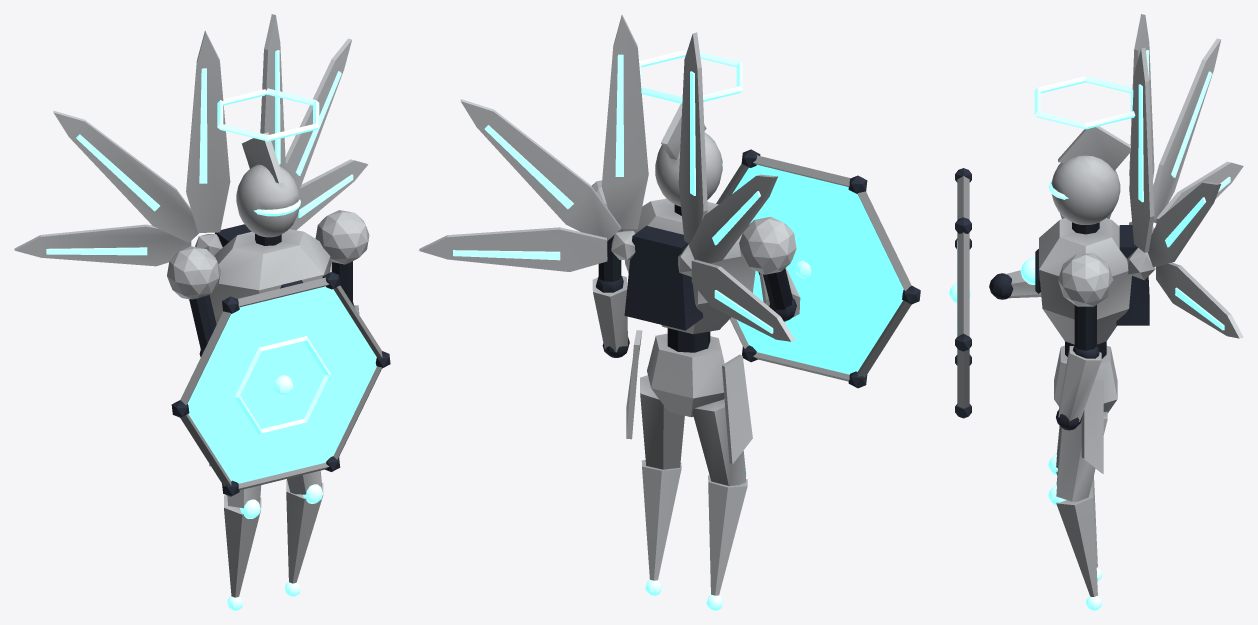
File: mech_sentinel.glb
3 renders of one model, left to right at view 1: azimuth 30°, elevation 25°; view 2: azimuth 150°, elevation 25°; view 3: azimuth 270°, elevation 25°, orthographic. The views are drawn at different scales.
Parts seen in each view (by area): view 1: body, wing_L_a, wing_R_a, spin_y_halo; view 2: body, wing_R_a, wing_L_a, spin_y_halo; view 3: body, wing_R_a, wing_L_a, spin_y_halo.
Part boxes in pixels (left/top/right/bottom): body: left=167, top=132, right=390, bottom=610; wing_L_a: left=14, top=30, right=230, bottom=266; wing_R_a: left=260, top=14, right=368, bottom=230; spin_y_halo: left=217, top=88, right=319, bottom=141; body: left=592, top=104, right=920, bottom=610; wing_R_a: left=419, top=14, right=648, bottom=271; wing_L_a: left=678, top=32, right=795, bottom=341; spin_y_halo: left=639, top=49, right=742, bottom=103; body: left=949, top=126, right=1149, bottom=610; wing_R_a: left=1127, top=48, right=1243, bottom=338; wing_L_a: left=1129, top=14, right=1243, bottom=233; spin_y_halo: left=1034, top=76, right=1135, bottom=129.
Bounding box in the file's own units: 1.48 × 2.24 × 1.06.
